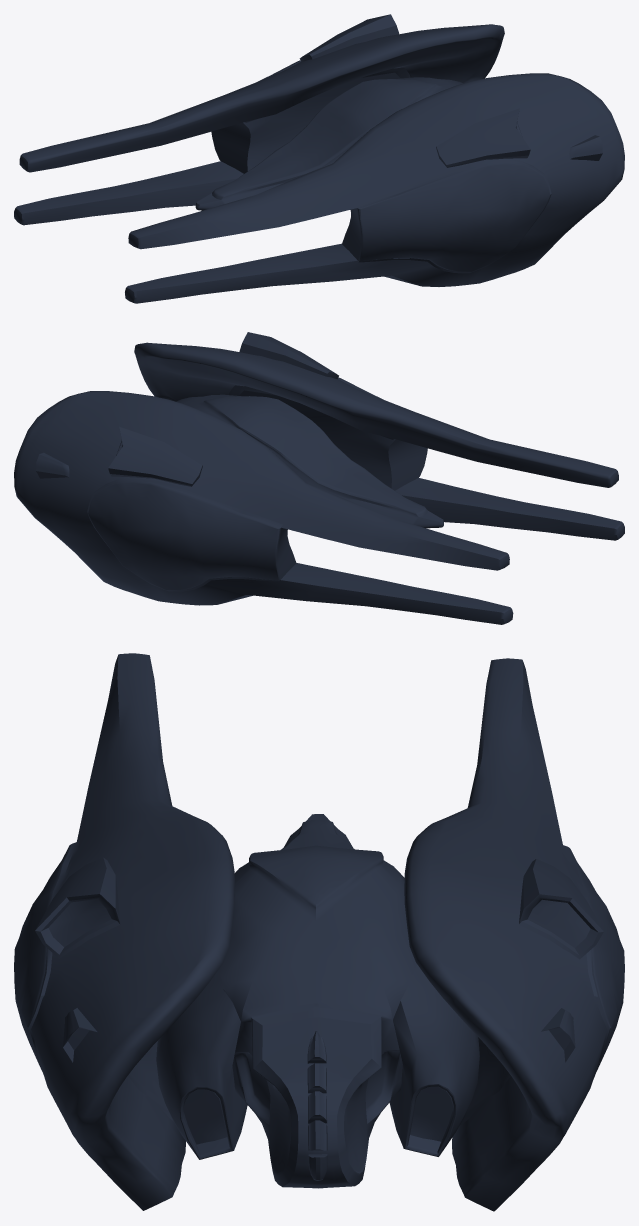
File: SM_Player_Ship.fbx
3 renders of one model, top to bottom at view 1: azimuth 30°, elevation 25°; view 2: azimuth 150°, elevation 25°; view 3: azimuth 270°, elevation 25°, orthographic. The views are drawn at different scales.
Visible parts, largest first — view 1: SM_Player_Ship_low3_polySurface14; view 2: SM_Player_Ship_low3_polySurface14; view 3: SM_Player_Ship_low3_polySurface14.
Part boxes in pixels (x1,y1,x2,y2): SM_Player_Ship_low3_polySurface14: [14, 14, 624, 303]; SM_Player_Ship_low3_polySurface14: [14, 332, 624, 624]; SM_Player_Ship_low3_polySurface14: [14, 653, 624, 1211].
Bounding box in the file's own units: 742 × 263 × 472.
